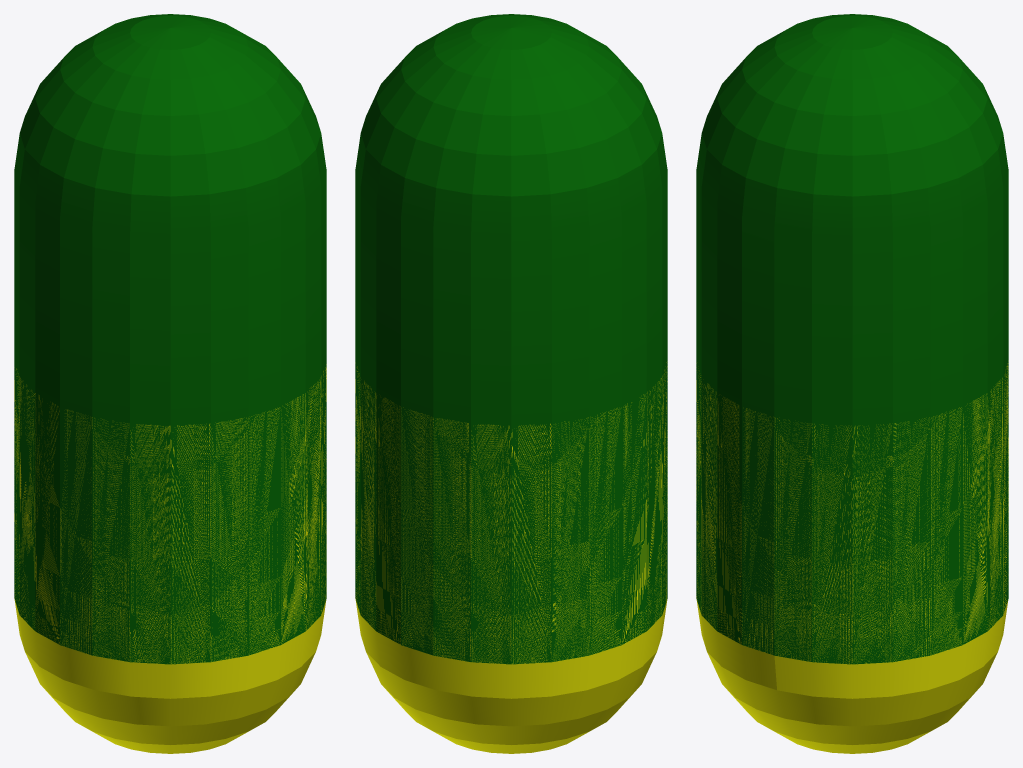
3 views of the same model, side by side, from view 1: azimuth 30°, elevation 25°; view 2: azimuth 150°, elevation 25°; view 3: azimuth 270°, elevation 25° (orthographic).
Parts seen in each view (by area): view 1: Tuseran_Medicine (×3); view 2: Tuseran_Medicine (×3); view 3: Tuseran_Medicine (×3).
Part boxes in pixels (x1=…): Tuseran_Medicine (×3): x1=14, y1=14, x2=326, y2=753; Tuseran_Medicine (×3): x1=355, y1=14, x2=667, y2=753; Tuseran_Medicine (×3): x1=696, y1=14, x2=1008, y2=753.
Bounding box in the file's own units: 198 × 198 × 498.
